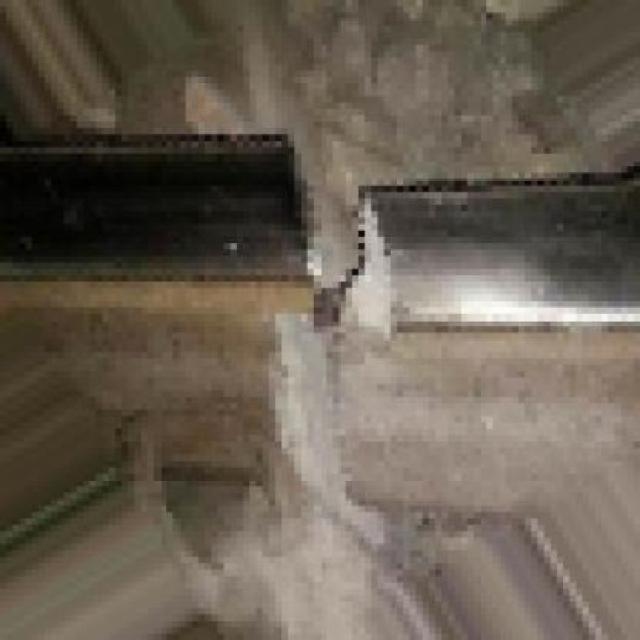defective: (181, 95, 475, 640)
